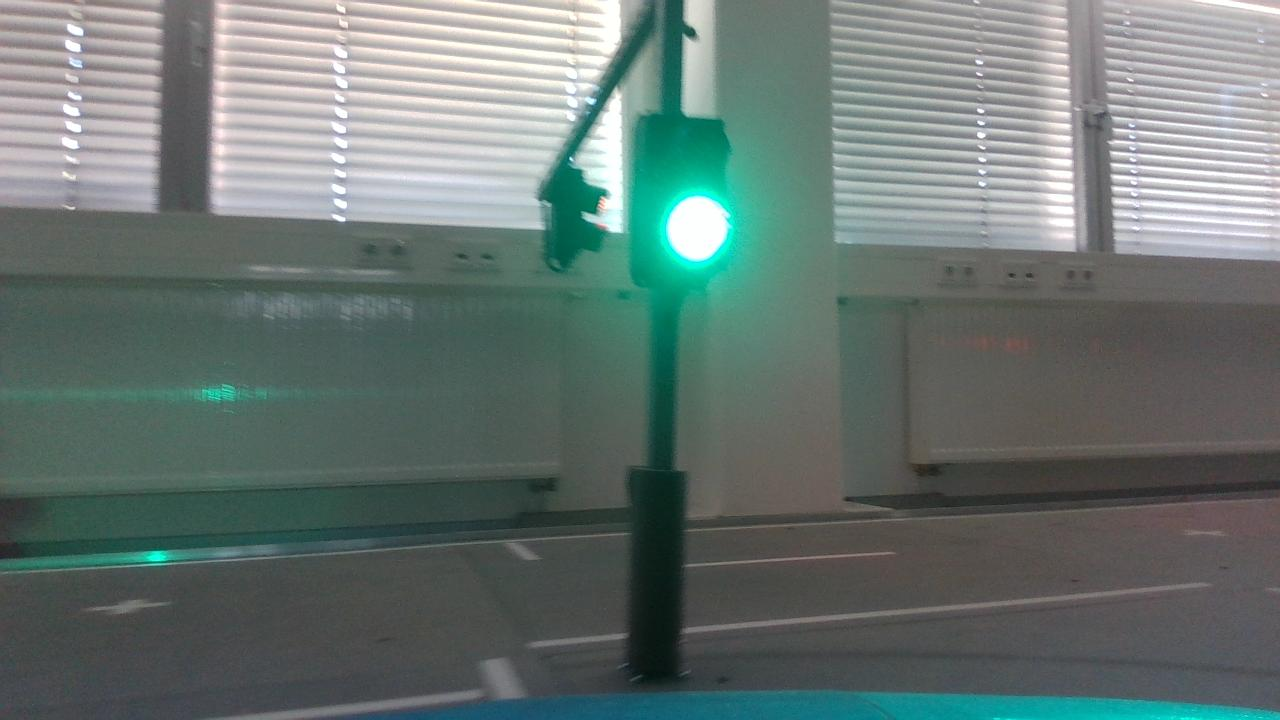traffic_light_green: (615, 91, 757, 305)
